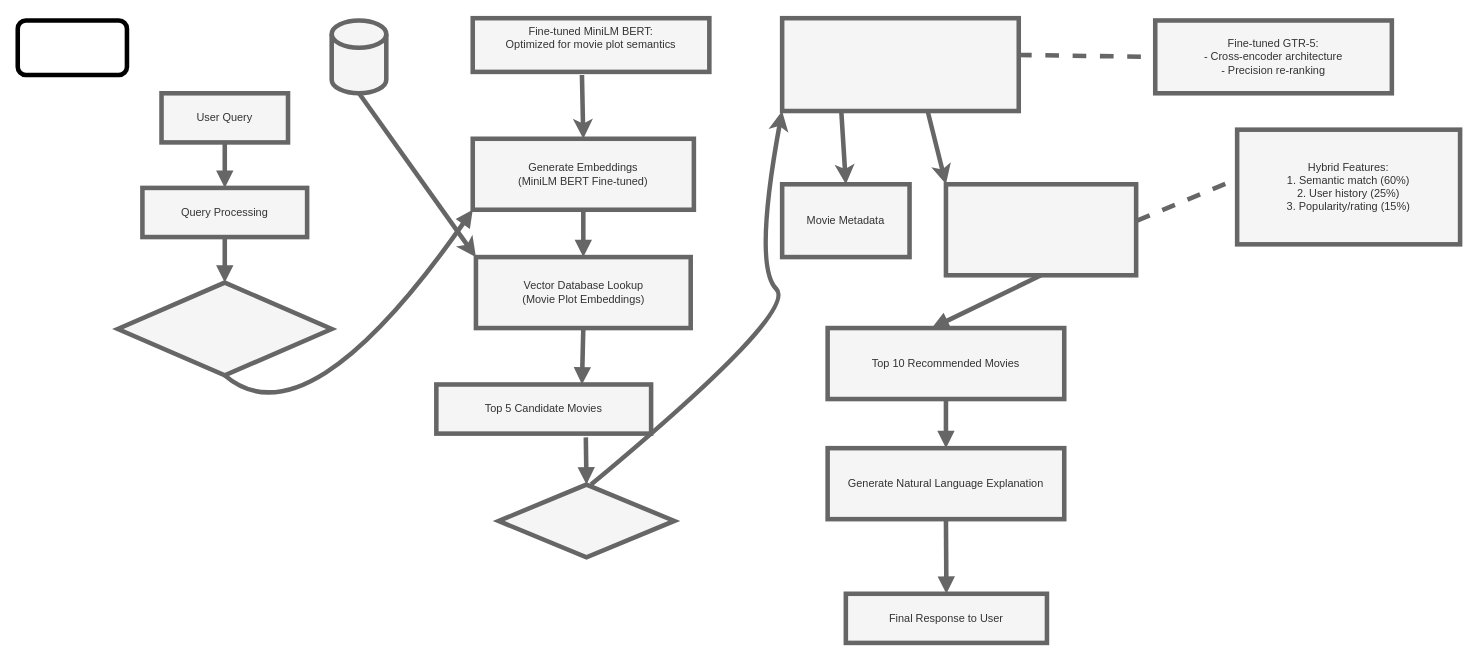
The diagram is 1478 pixels wide and 661 high, and some of its shapes have lost their labels. The shapes that lost their labels are listed below. From the top down, each one's centre as x and y in pixels, then its label:
At point (72, 47): "Rag Process".
At point (358, 56): "vector database".
At point (900, 64): "Generate Enhanced Embeddings (GTR-5 Fine-tuned)".
At point (1040, 229): "Combine Features: - Semantic Similarity - User Preferences - Movie Metadata".
At point (224, 328): "Stage 1: Semantic Search".
At point (586, 520): "Stage 2: Re-ranking".
